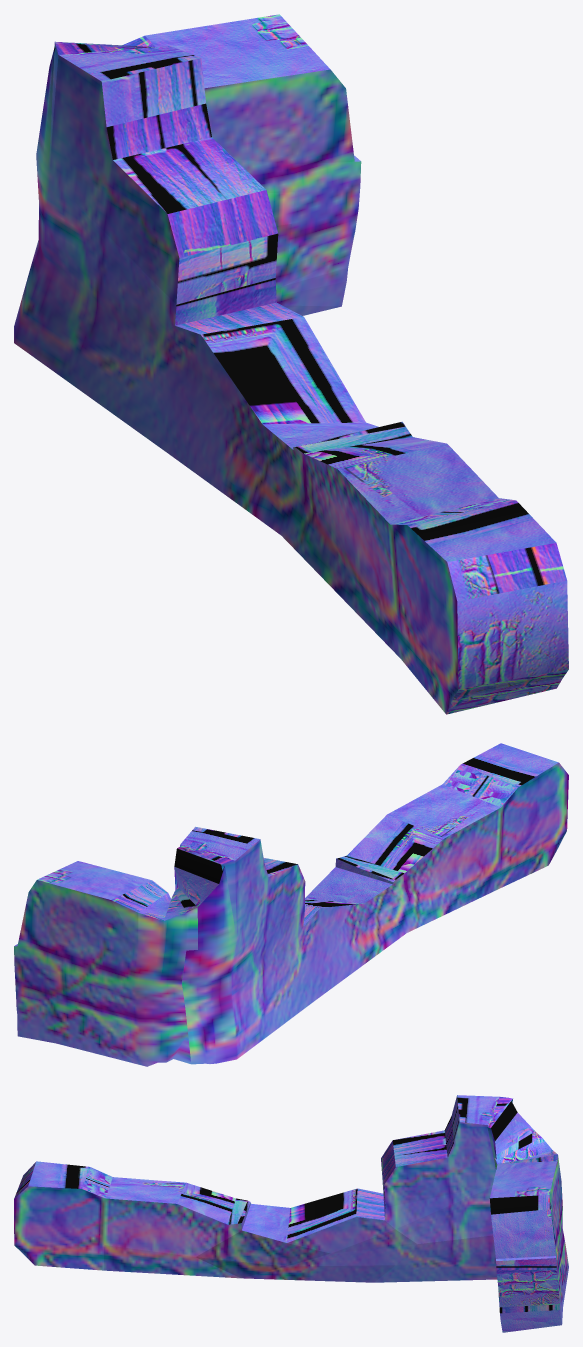
File: prob-1.fbx
The picture shows the model from 3 angles, top to bottom: view 1: azimuth 30°, elevation 25°; view 2: azimuth 150°, elevation 25°; view 3: azimuth 270°, elevation 25°; orthographic projection. The views are drawn at different scales.
Parts seen in each view (by area): view 1: Object003, Object005; view 2: Object003, Object005; view 3: Object003, Object005.
Boxes of the visible parts, x1,y1,x2,y2 form: Object003: [14, 43, 458, 714]; Object005: [54, 14, 568, 714]; Object003: [14, 762, 568, 1066]; Object005: [14, 743, 558, 946]; Object003: [14, 1099, 568, 1323]; Object005: [14, 1095, 561, 1332].
Size of the model in its own units: 52.28 by 44.73 by 134.
